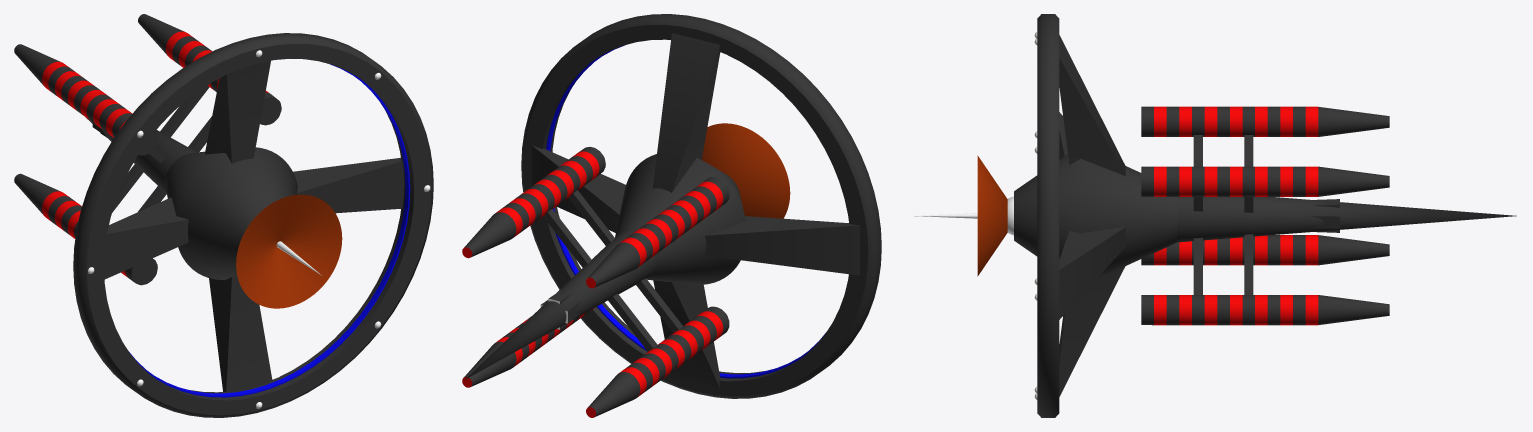
File: NvProbe.FBX
The picture shows the model from 3 angles, left to right: view 1: azimuth 30°, elevation 25°; view 2: azimuth 150°, elevation 25°; view 3: azimuth 270°, elevation 25°; orthographic projection.
Parts seen in each view (by area): view 1: NvProbe; view 2: NvProbe; view 3: NvProbe.
Part boxes in pixels (left/top/right/bottom): NvProbe: left=14, top=14, right=433, bottom=417; NvProbe: left=462, top=14, right=881, bottom=417; NvProbe: left=914, top=14, right=1516, bottom=417.
Bounding box in the file's own units: 2 × 2 × 3.01.
